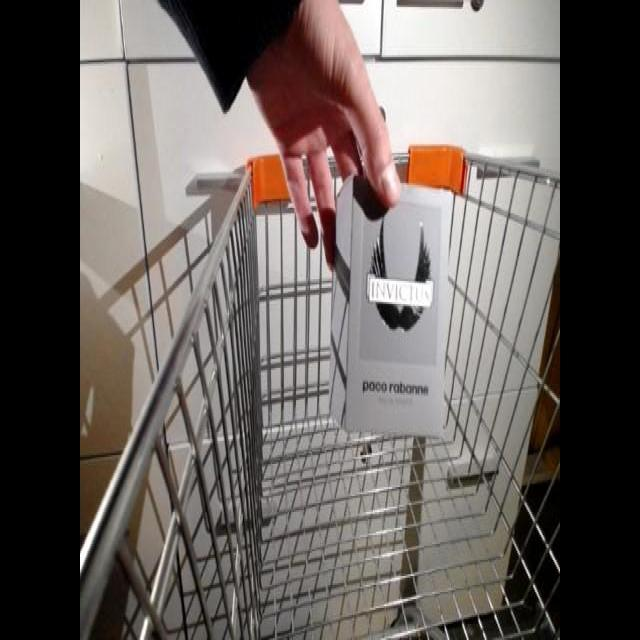Paco Rabanne: (322, 165, 457, 443)
